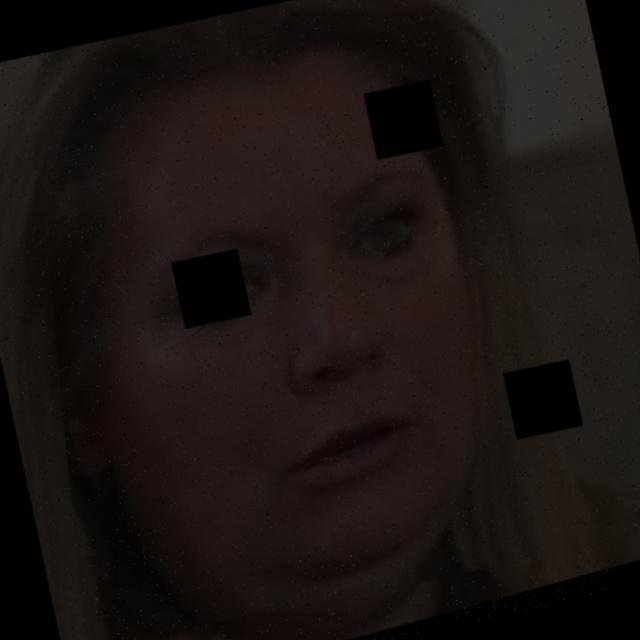Sad: (59, 70, 548, 579)
